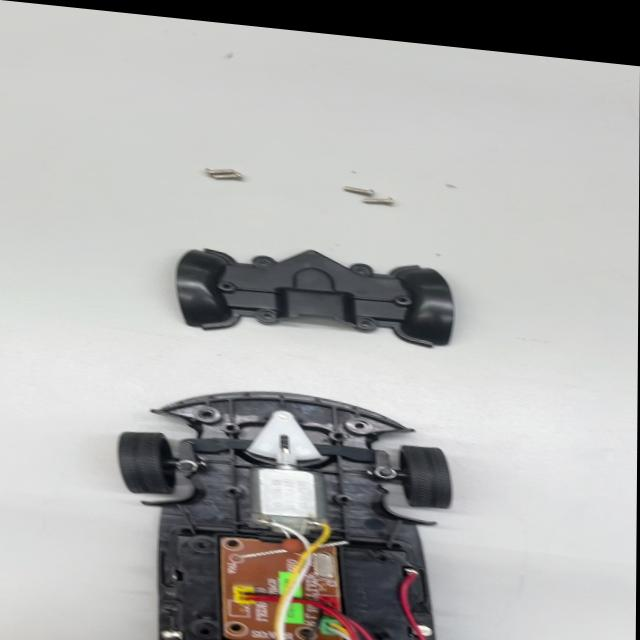Chassis: (120, 365, 466, 640)
motor: (245, 438, 327, 543)
motor_cover: (174, 229, 456, 357)
screw: (198, 160, 254, 191), (338, 177, 374, 200), (362, 193, 396, 216)
wheel: (109, 419, 180, 496), (403, 434, 456, 513)
